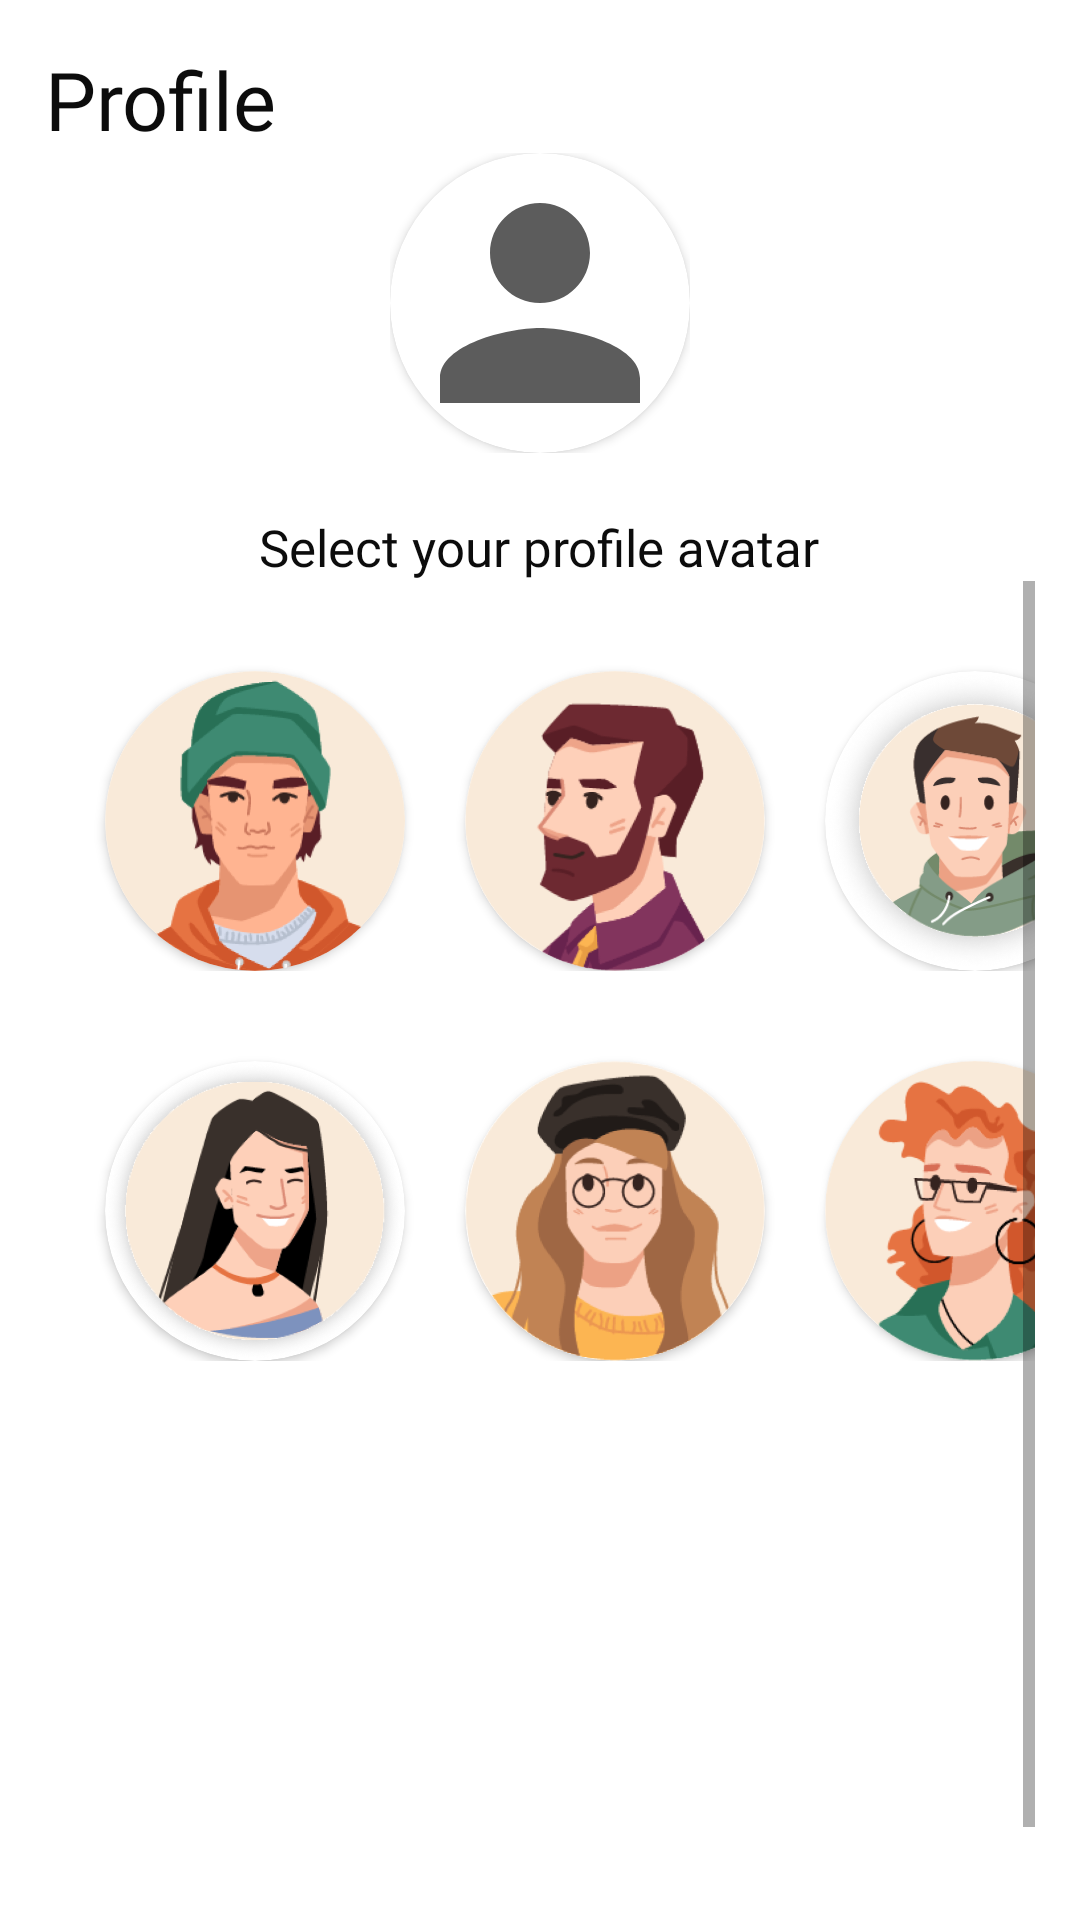

Where icons sit on this 1080×1920 app screen, as (x1, y1, x2, y2):
female one: (105, 1079, 398, 1361)
female two: (466, 1062, 765, 1361)
male one: (105, 671, 405, 971)
male two: (466, 671, 765, 971)
person: (396, 203, 684, 453)
